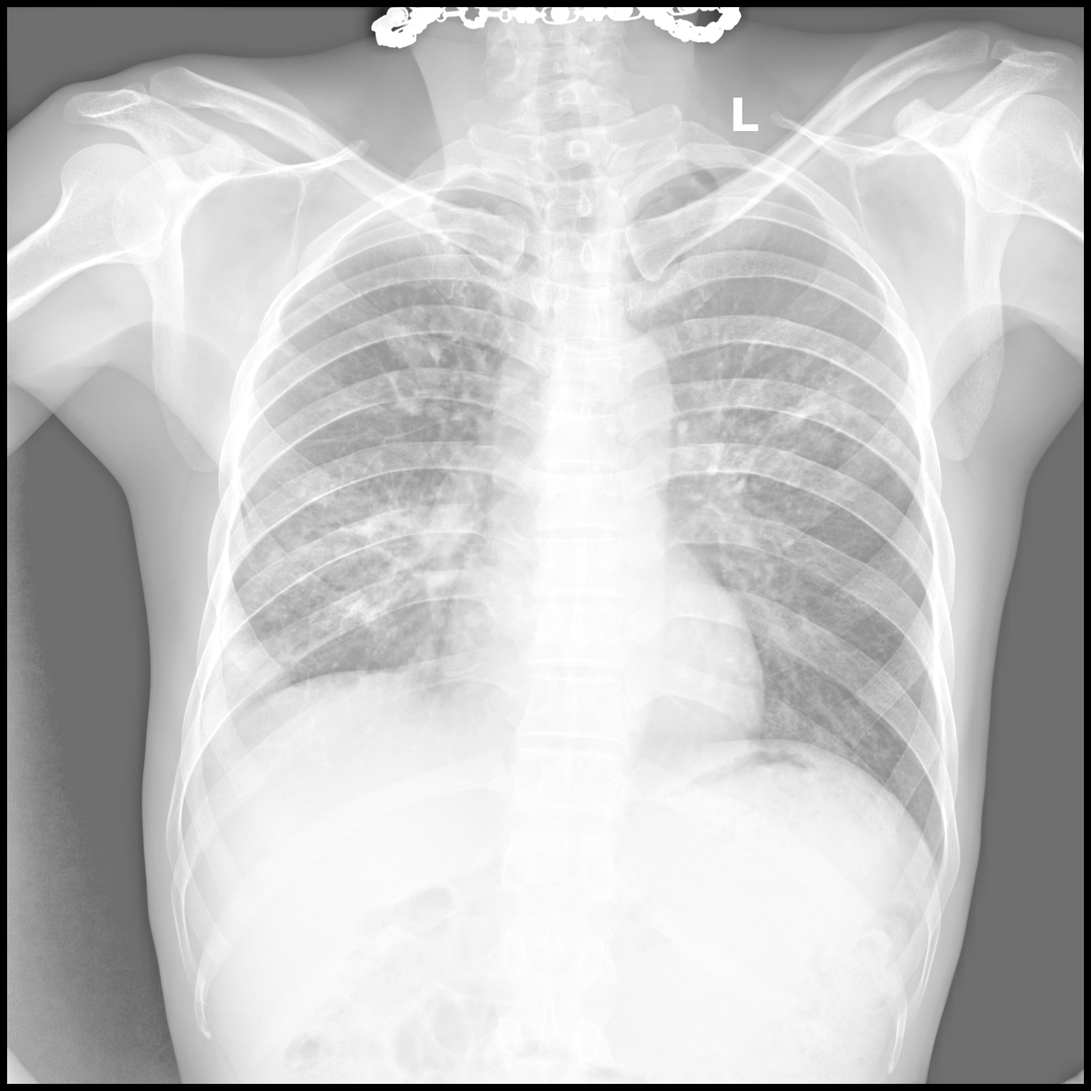Pleural thickening: (189, 678, 245, 780)
Pulmonary fibrosis: (231, 431, 479, 646), (682, 329, 910, 523), (380, 287, 457, 370)
